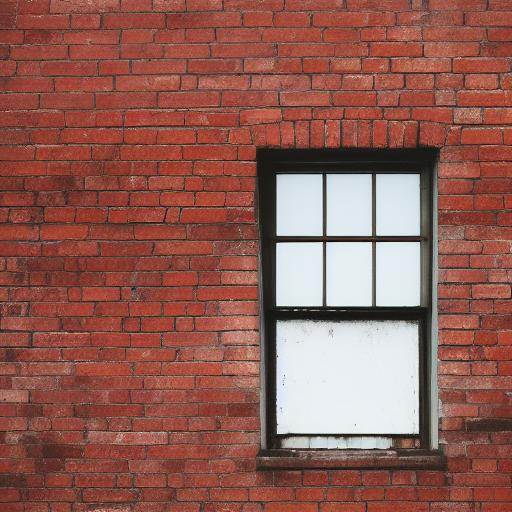Window: (253, 120, 447, 471)
